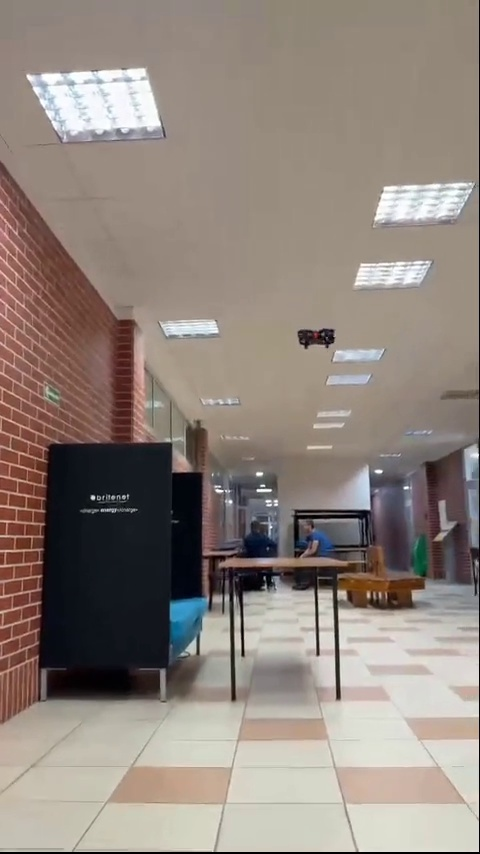drone: (297, 326, 336, 356)
no vest: (289, 514, 328, 557), (242, 518, 274, 559)
